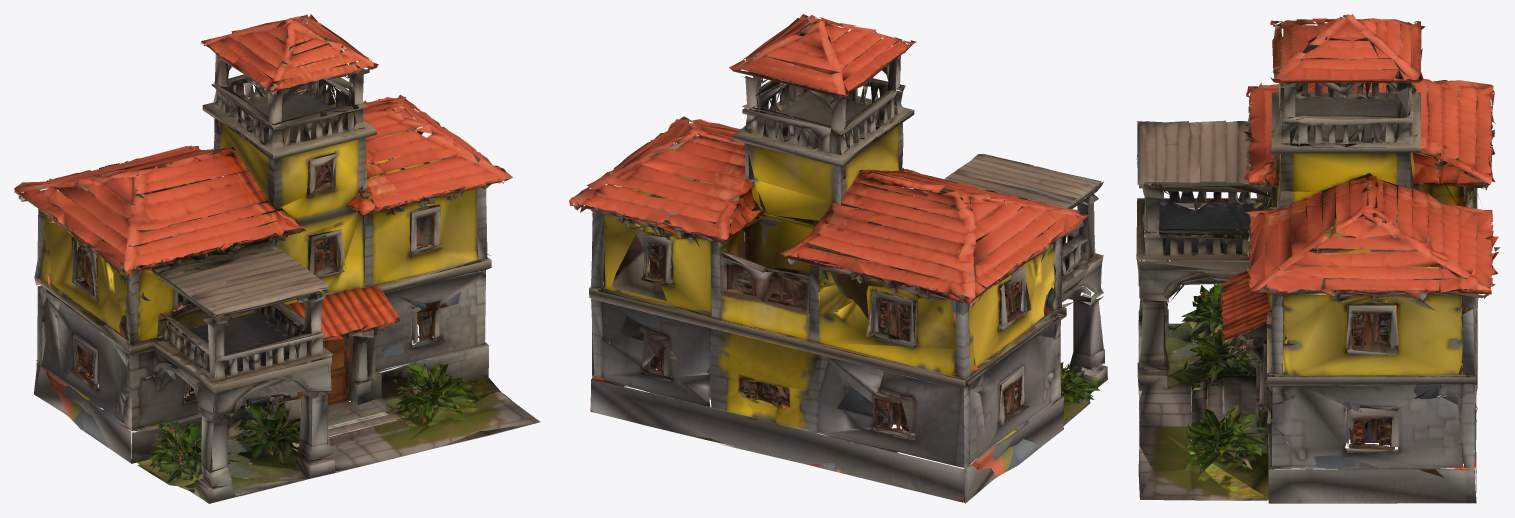
File: Mediterranean_Villa_town.glb
The picture shows the model from 3 angles, left to right: view 1: azimuth 30°, elevation 25°; view 2: azimuth 150°, elevation 25°; view 3: azimuth 270°, elevation 25°; orthographic projection. The views are drawn at different scales.
Parts seen in each view (by area): view 1: Mediterranean_Villa; view 2: Mediterranean_Villa; view 3: Mediterranean_Villa.
Boxes of the visible parts, x1,y1,x2,y2 form: Mediterranean_Villa: [14, 14, 540, 503]; Mediterranean_Villa: [569, 14, 1107, 503]; Mediterranean_Villa: [1136, 14, 1500, 503].
Bounding box in the file's own units: 1.93 × 1.75 × 1.42.
1 material, 1 textured.
